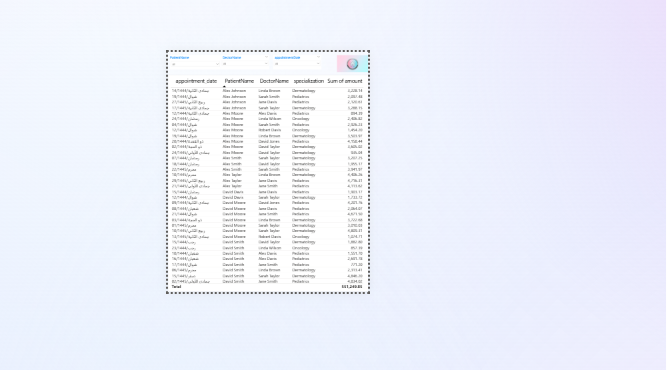

What the dashboard file says about the page in this screenshot:
{"tool":"powerbi","page":{"name":"Data","canvas":[1000,1200],"ordinal":2},"visuals":[{"type":"tableEx","fields":{"Values":["appointments.appointment_date","patients.Full Name","doctors.FullName","doctors.specialization","Sum(billing.amount)"]},"box":[0,117.2,1213.8,1082.8],"z":0},{"type":"slicer","fields":{"Values":["appointments.appointment_date"]},"box":[523.3,15,241.7,71.7],"z":1000},{"type":"slicer","fields":{"Values":["doctors.FullName"]},"box":[265,15,241.7,71.7],"z":2000},{"type":"slicer","title":"PatientName","fields":{"Values":["patients.PatientName"]},"box":[11.7,15,253.3,71.7],"z":3000},{"type":"actionButton","box":[915.7,15.7,84.3,25.7],"z":4000},{"type":"image","box":[845,0,155,116.7],"z":5000}]}

Visuals, with their boxes on the page's 1000x1200 design canvas (x1, y1, x2, y2). These are canvas units, not pixel positions in the 667x371 screenshot, which may show the page scaled, cropped or inside an application window:
tableEx - appointments.appointment_date x patients.Full Name: (0, 117, 1214, 1200)
slicer - appointments.appointment_date: (523, 15, 765, 87)
slicer - doctors.FullName: (265, 15, 507, 87)
"PatientName" slicer: (12, 15, 265, 87)
actionButton: (916, 16, 1000, 41)
image: (845, 0, 1000, 117)
